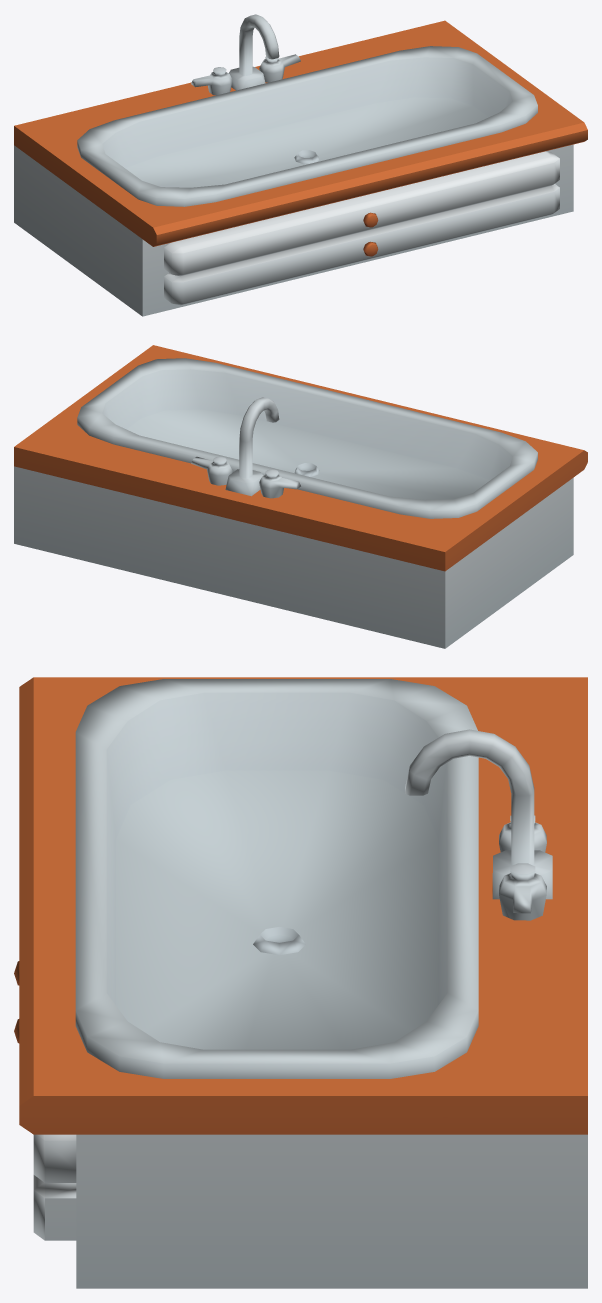
Rendered from lavaplatos_nuevo.glb.
3 renders of one model, top to bottom at view 1: azimuth 30°, elevation 25°; view 2: azimuth 150°, elevation 25°; view 3: azimuth 270°, elevation 25°, orthographic. The views are drawn at different scales.
Parts seen in each view (by area): view 1: kitchencounter_sink, kitchentable_sink.005, kitchentable_sink.001; view 2: kitchencounter_sink, kitchentable_sink.005, kitchentable_sink.001; view 3: kitchencounter_sink, kitchentable_sink.005, kitchentable_sink.001.
Part boxes in pixels (box(x1,y1,x2,y2)): kitchencounter_sink: box(14, 20, 587, 316); kitchentable_sink.005: box(77, 46, 537, 206); kitchentable_sink.001: box(191, 14, 300, 95); kitchencounter_sink: box(14, 345, 587, 648); kitchentable_sink.005: box(77, 358, 537, 518); kitchentable_sink.001: box(191, 397, 300, 498); kitchencounter_sink: box(19, 677, 587, 1288); kitchentable_sink.005: box(75, 679, 478, 1078); kitchentable_sink.001: box(405, 729, 552, 920).
Bounding box in the file's own units: 4.66 × 1.8 × 2.7.
Materials: 2 (2 with a texture image).
